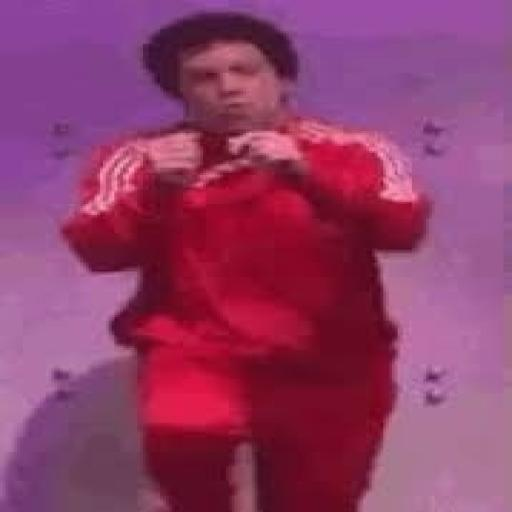running: (57, 9, 435, 510)
